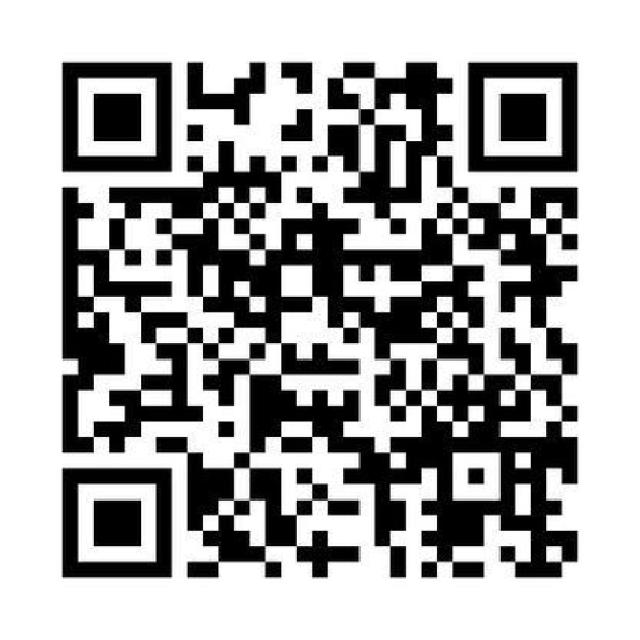QRCode: (52, 50, 597, 589)
